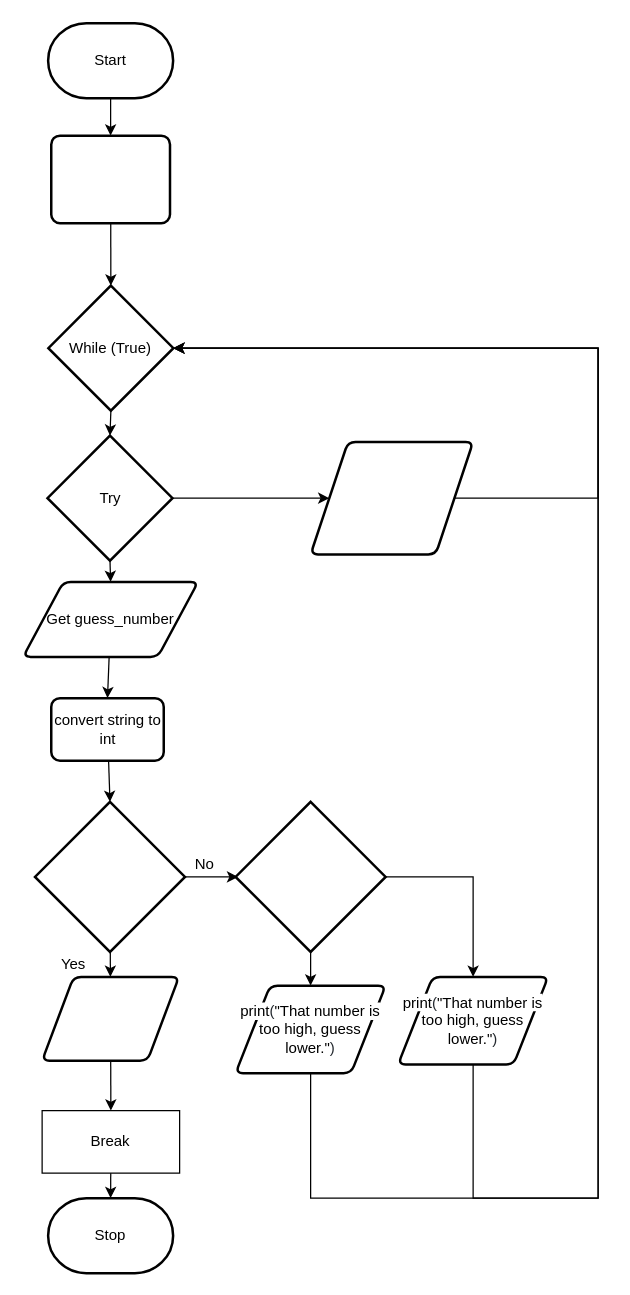
Image size: 630x1295. Some labels were removed from this diagram. The shapes that lost their labels are listed below. From the top down, each one's centre as x and y in pixels, then its label:
point (110, 179): Generate mystery_Number
point (391, 497): print "That was not a integer from 0-9"
point (109, 876): guess_number == mystery_number
point (310, 876): If guess_number > mystery_number
point (110, 1018): print "You guessed correct
